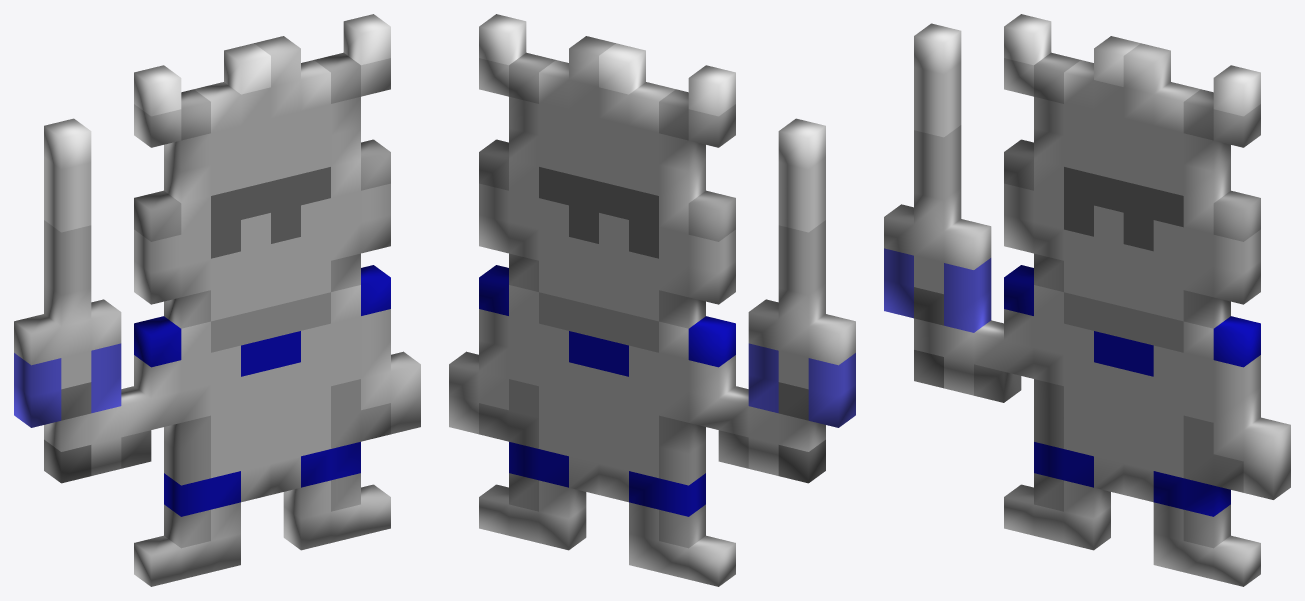
File: soldier.fbx
3 views of the same model, side by side, from view 1: azimuth 30°, elevation 25°; view 2: azimuth 150°, elevation 25°; view 3: azimuth 330°, elevation 25° (orthographic).
Visible parts, largest first — view 1: soldier; view 2: soldier; view 3: soldier.
Part boxes in pixels (x1=…): soldier: x1=14, y1=14, x2=420, y2=586; soldier: x1=449, y1=14, x2=855, y2=586; soldier: x1=884, y1=14, x2=1290, y2=586.
Size of the model in its own units: 0.65 by 0.8 by 0.05.
